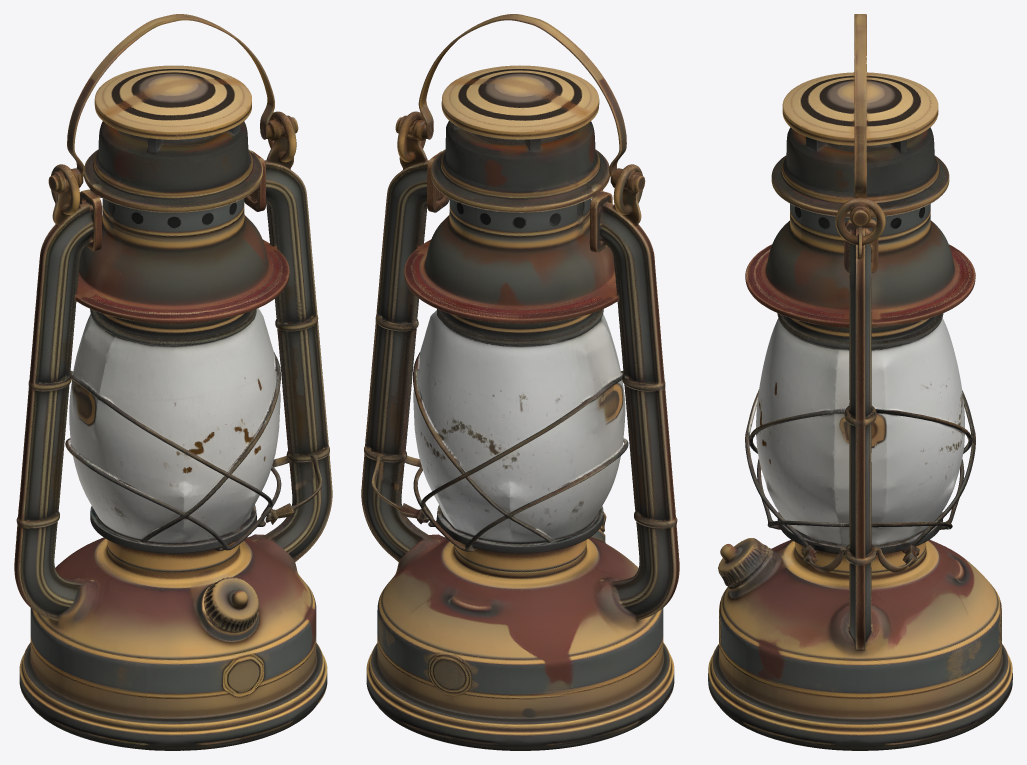
File: Lantern.glb
3 views of the same model, side by side, from view 1: azimuth 30°, elevation 25°; view 2: azimuth 150°, elevation 25°; view 3: azimuth 270°, elevation 25° (orthographic).
Size of the model in its own units: 0.9311 by 1.9 by 0.789.
1 material, 1 textured.
